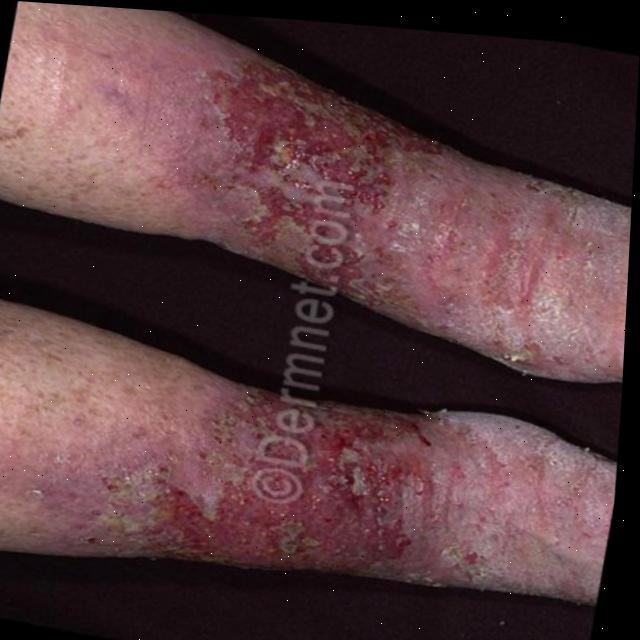Eczema: (168, 386, 463, 587), (217, 83, 440, 265)
